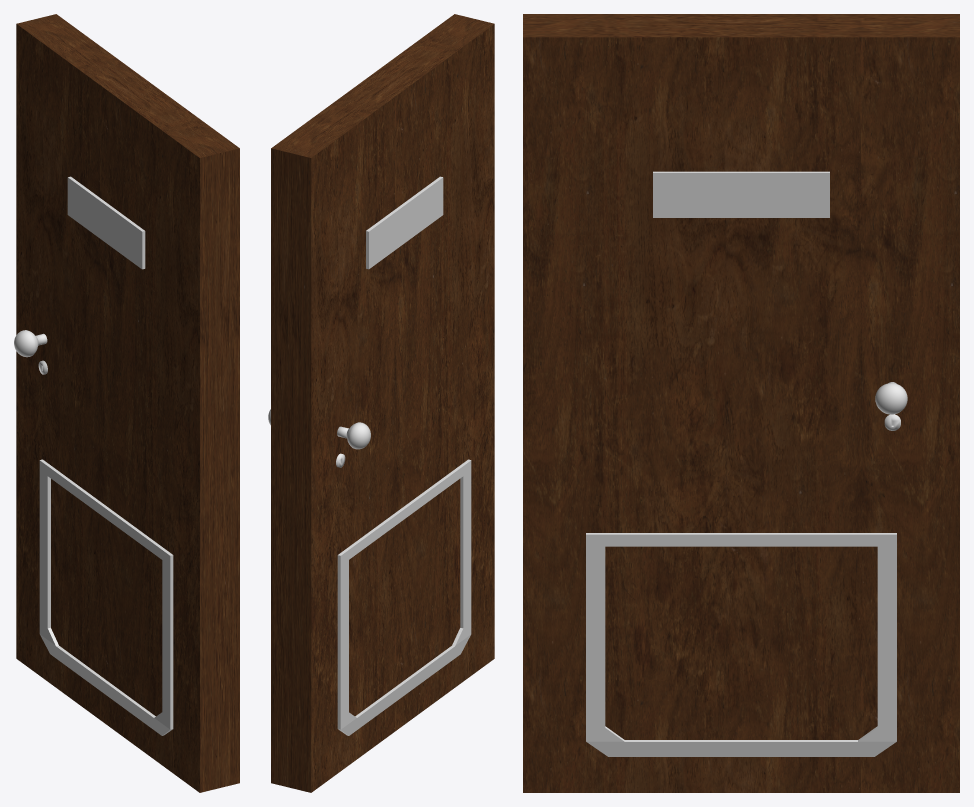
File: hotel reception door 1.fbx
3 views of the same model, side by side, from view 1: azimuth 30°, elevation 25°; view 2: azimuth 150°, elevation 25°; view 3: azimuth 270°, elevation 25° (orthographic). The views are drawn at different scales.
Parts seen in each view (by area): view 1: Cube.001, Cube.003, Staff Only, Cylinder; view 2: Cube.001, Cube.003, Staff Only, Cylinder; view 3: Cube.001, Cube.002, Staff Only.001, Cylinder.002.
Boxes of the visible parts, x1=… form: Cube.001: x1=16, y1=14, x2=239, y2=792; Cube.003: x1=39, y1=459, x2=173, y2=735; Staff Only: x1=67, y1=176, x2=145, y2=269; Cylinder: x1=14, y1=330, x2=47, y2=357; Cube.001: x1=271, y1=14, x2=494, y2=792; Cube.003: x1=337, y1=459, x2=471, y2=735; Staff Only: x1=366, y1=176, x2=443, y2=269; Cylinder: x1=337, y1=422, x2=370, y2=449; Cube.001: x1=523, y1=14, x2=959, y2=792; Cube.002: x1=586, y1=533, x2=896, y2=756; Staff Only.001: x1=653, y1=171, x2=829, y2=217; Cylinder.002: x1=875, y1=382, x2=907, y2=414.
Bounding box in the file's own units: 74.96 × 461 × 241.
Materials: 1 (1 with a texture image).
